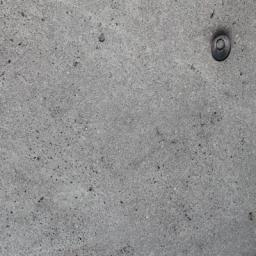FOD: (211, 33, 235, 66)
